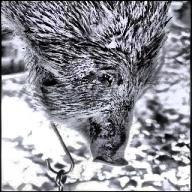boar: (1, 1, 173, 167)
